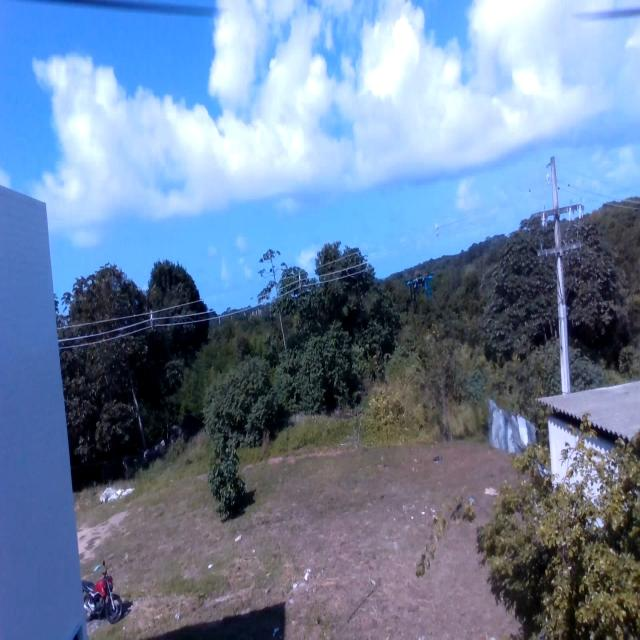-uav-: (402, 260, 435, 304)
